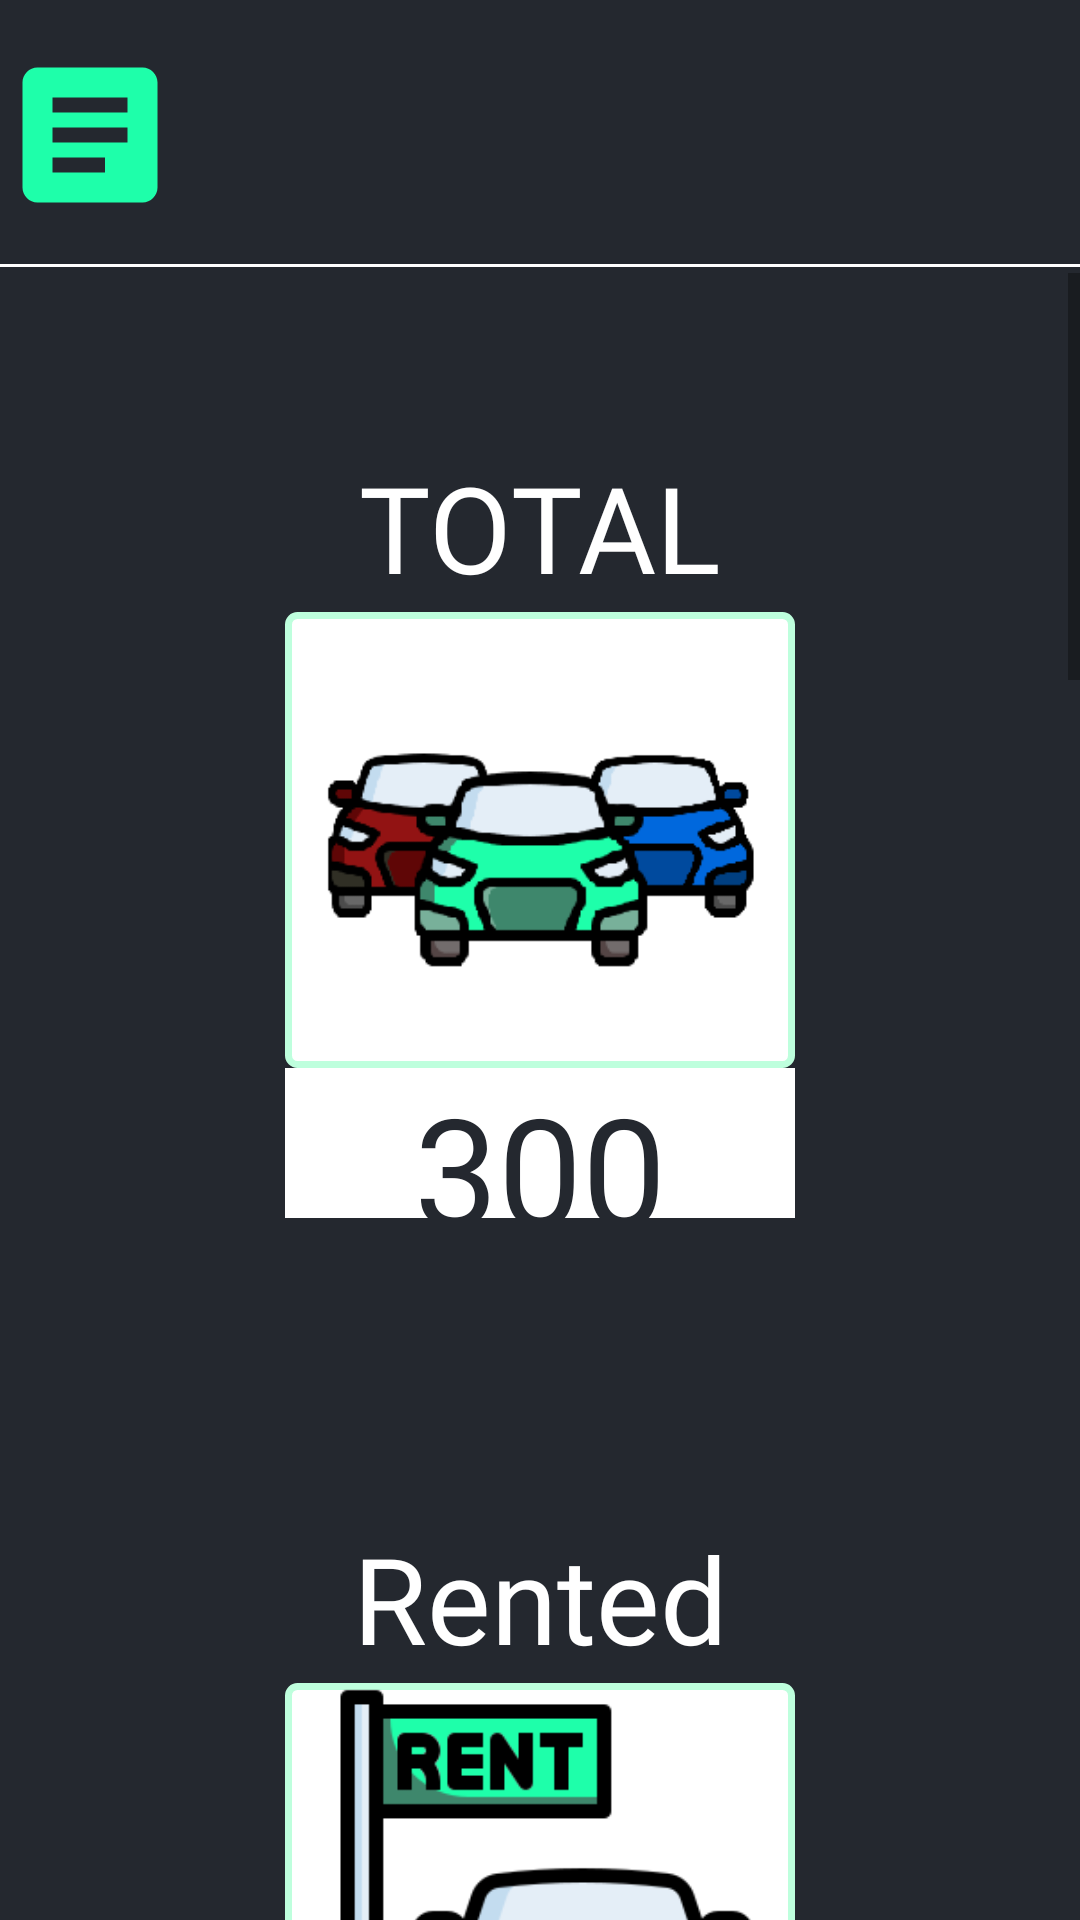

Point at icon controls on the screen. Image size 1080*1920, points as (x,y).
article: (90,135)
